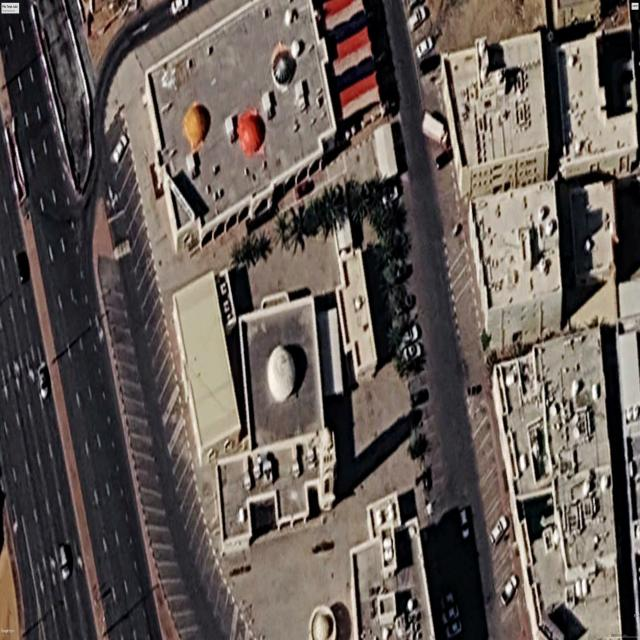mosque: (216, 292, 336, 553)
